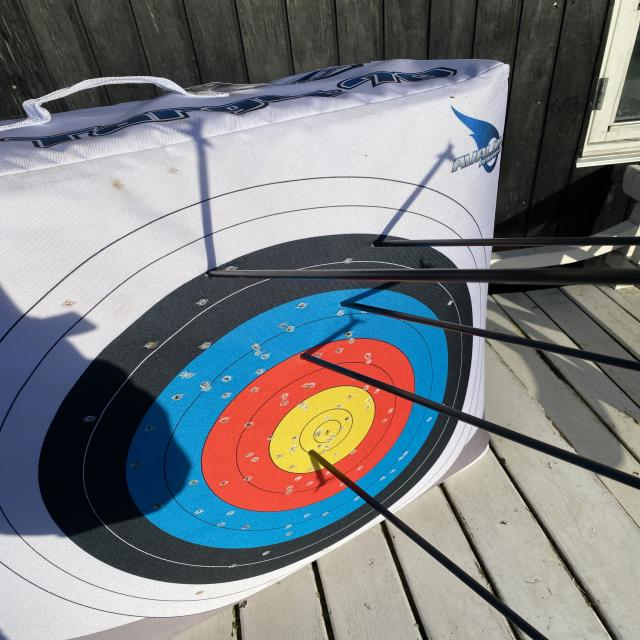Arrow_Black: (356, 233, 400, 261), (194, 265, 230, 290)
Arrow_Blue: (330, 292, 367, 320)
Arrow_Red: (284, 346, 320, 375)
Arrow_Yellow: (296, 443, 329, 469)
